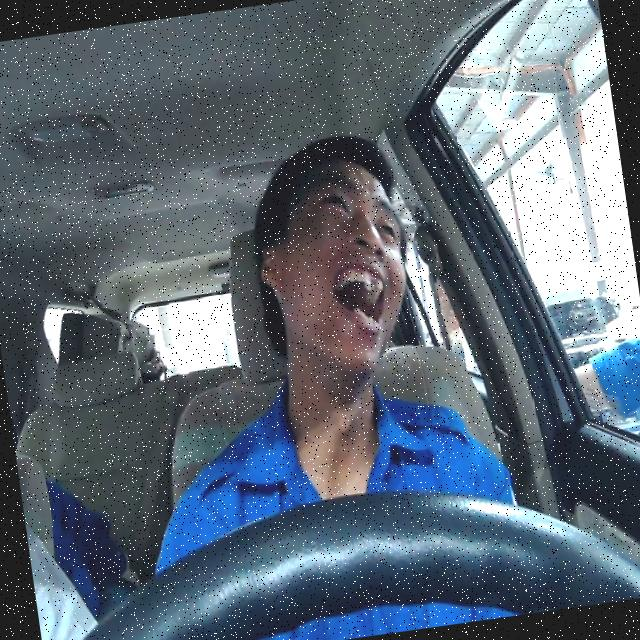yarning: (244, 153, 421, 392)
